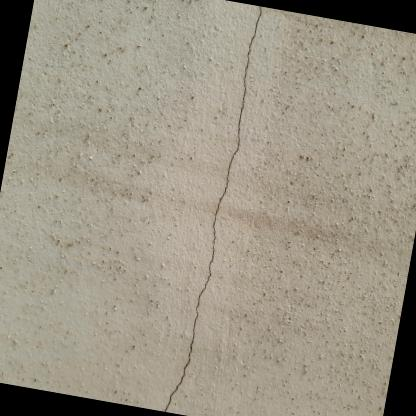crack: (162, 6, 262, 412)
